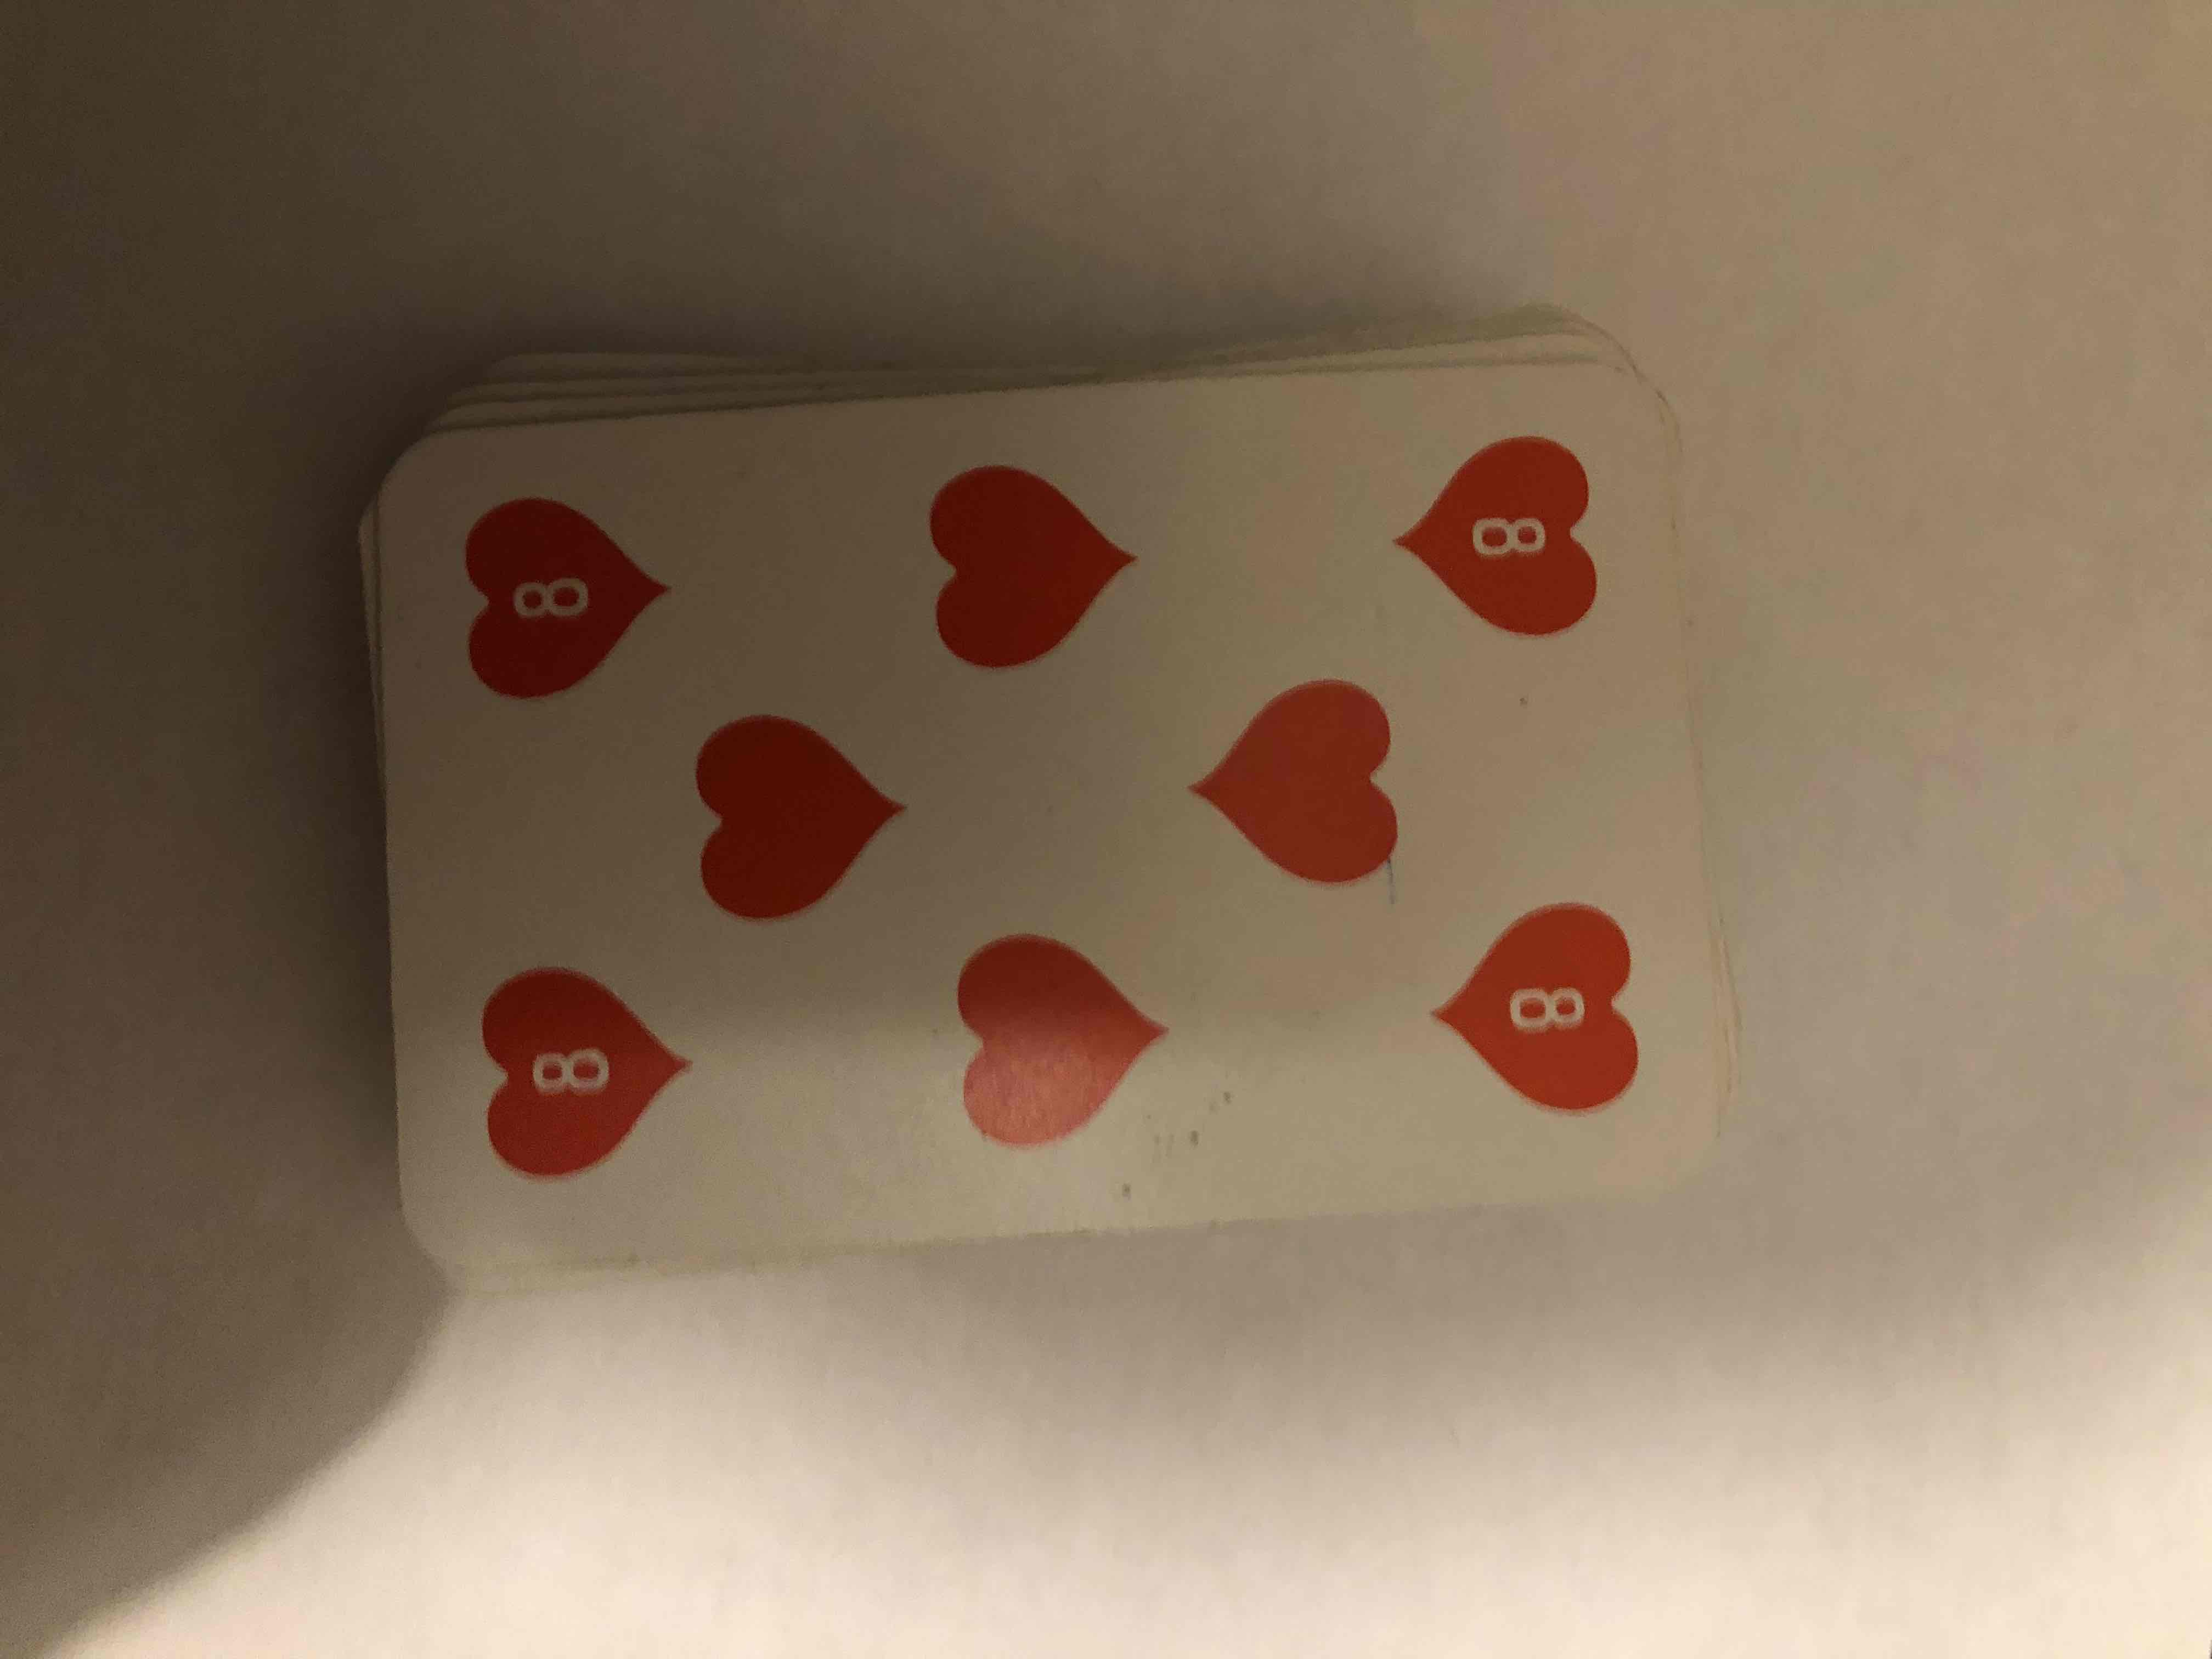hearts8: (402, 383, 1742, 1227)
